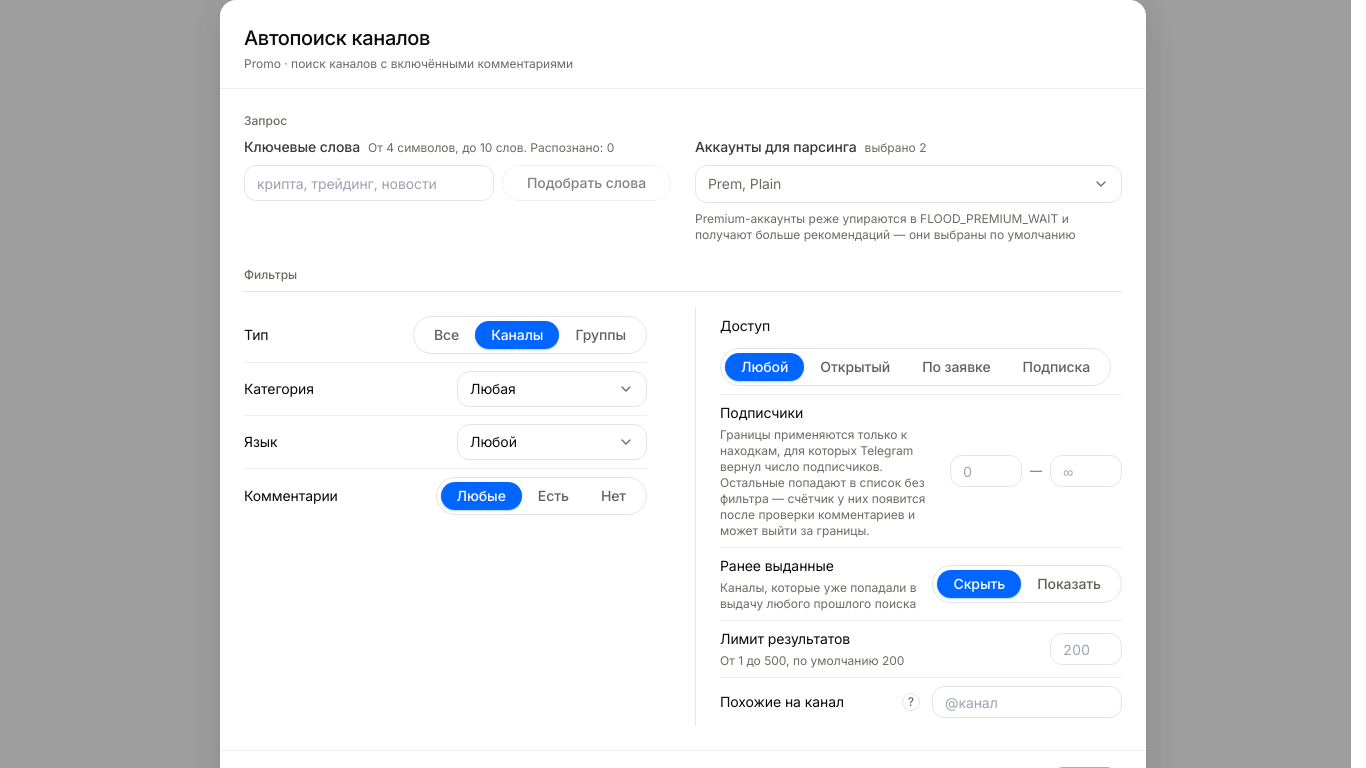
Scenario: ChannelDiscoveryModal › reports a rejected start inside the modal
The width and height of the screenshot is (1366, 768).
(page scrolled)
Type "crypto" into the field with placeholder "крипта, трейдинг, новости" at (369, 183), box [244,165,494,201]
(page scrolled)
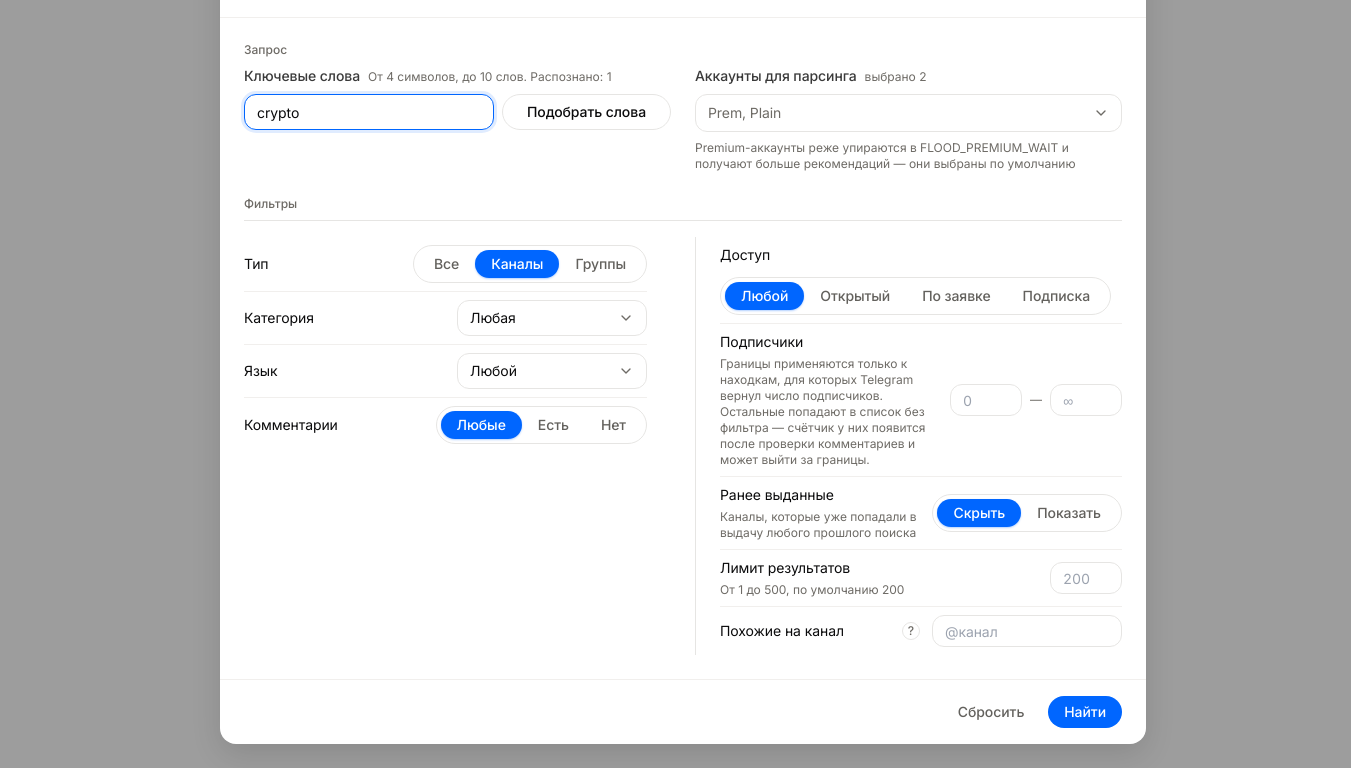
Now the button "Найти" is enabled
Click the button "Найти" at (1085, 712), box [1048,696,1122,728]
(page scrolled)
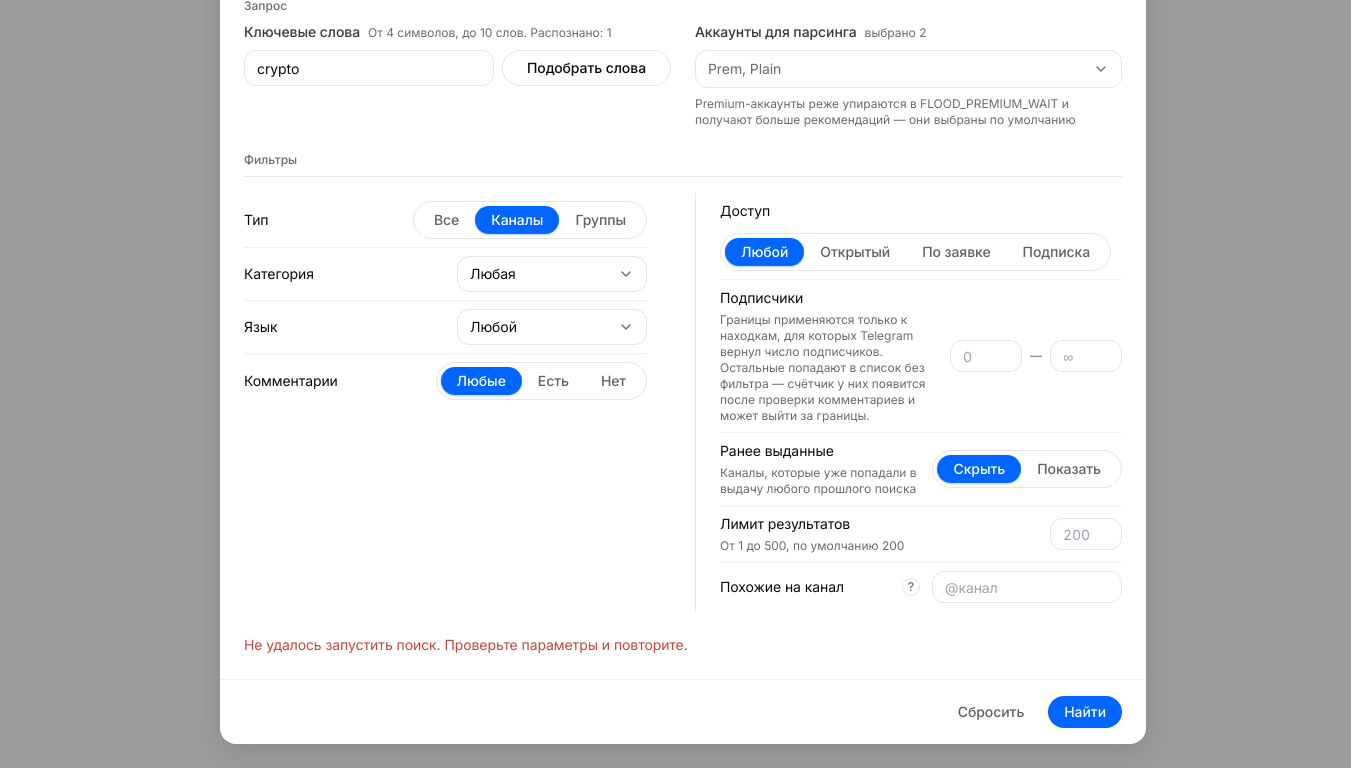
Now the button "Найти" is enabled, box [1048,696,1122,728]
Now the text "Не удалось запустить поиск. Проверьте параметры и повторите." is shown, box [244,636,688,653]
